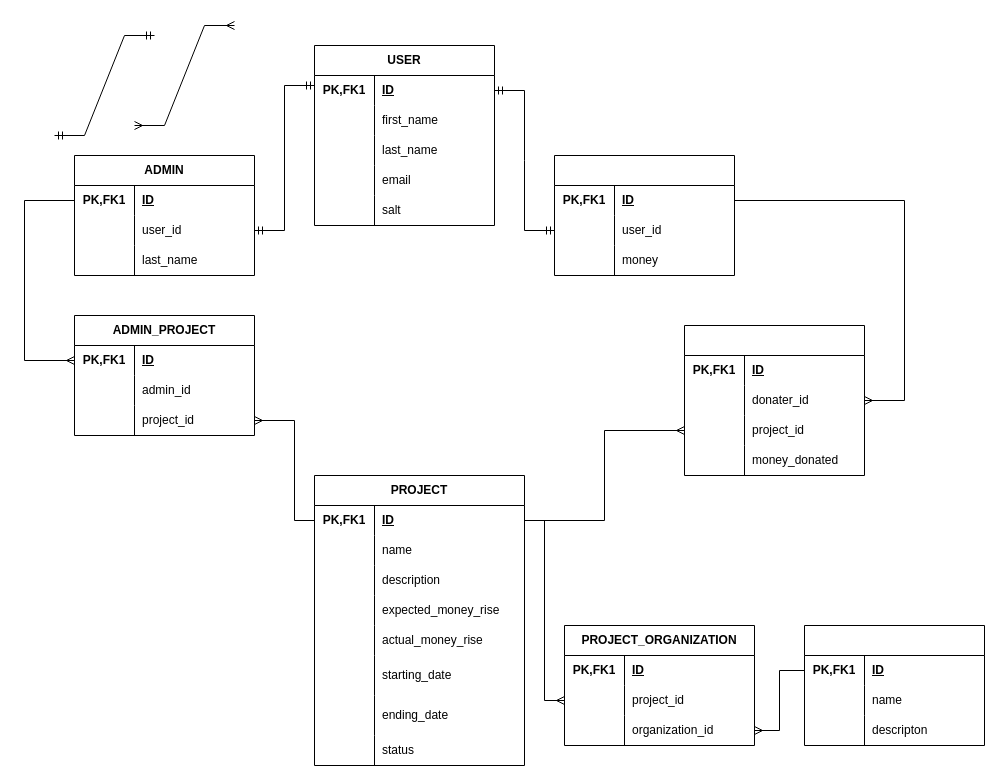
This 1002x783 diagram has some shape labels left out. The shapes that lost their labels are listed below. From the top down, each one's box as (x1, y1, x2, y2) in pixels, then its label:
(554, 154, 734, 276): DONATER
(684, 324, 864, 476): HISTORY_DONATIONS
(804, 624, 984, 746): ORGANIZATION
